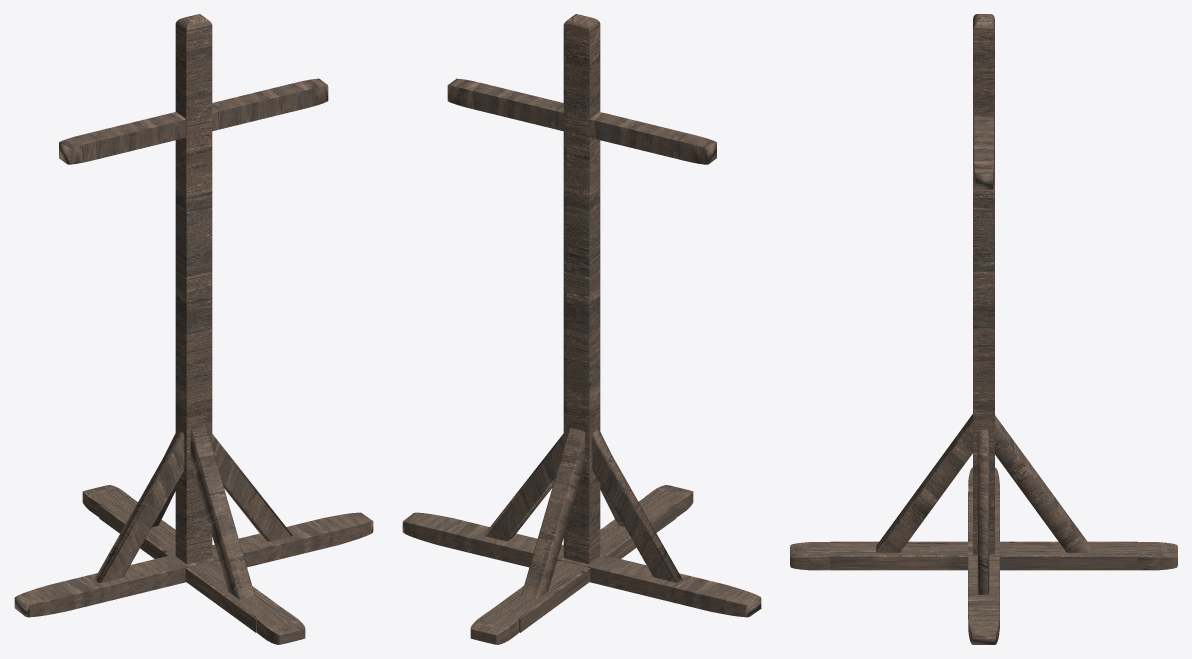
File: ArmorStand.fbx
3 views of the same model, side by side, from view 1: azimuth 30°, elevation 25°; view 2: azimuth 150°, elevation 25°; view 3: azimuth 270°, elevation 25° (orthographic).
Visible parts, largest first — view 1: Cube.007; view 2: Cube.007; view 3: Cube.007.
Part boxes in pixels (left/top/right/bottom): Cube.007: left=14, top=14, right=373, bottom=644; Cube.007: left=402, top=14, right=761, bottom=644; Cube.007: left=790, top=14, right=1177, bottom=644.
Bounding box in the file's own units: 300 × 458 × 294.
